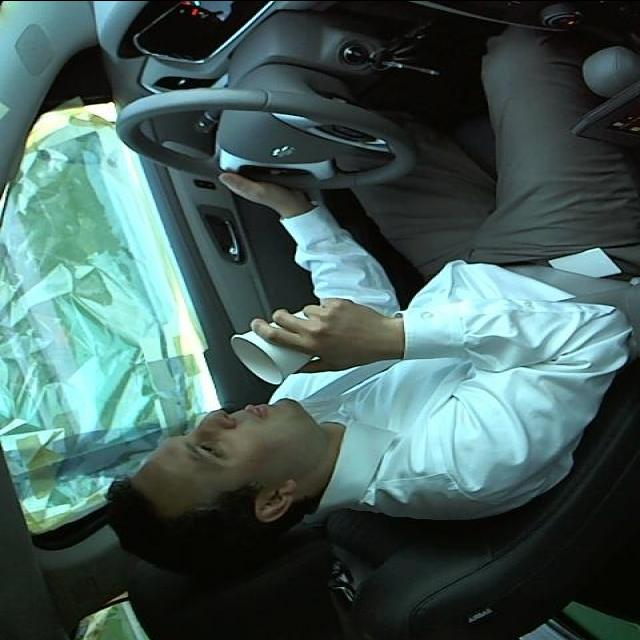drinking: (223, 298, 345, 387)
